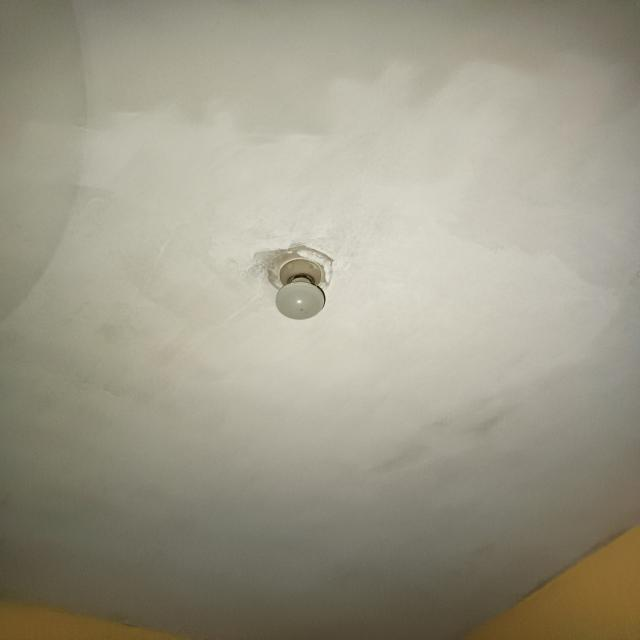bulb_off: (272, 257, 329, 322)
